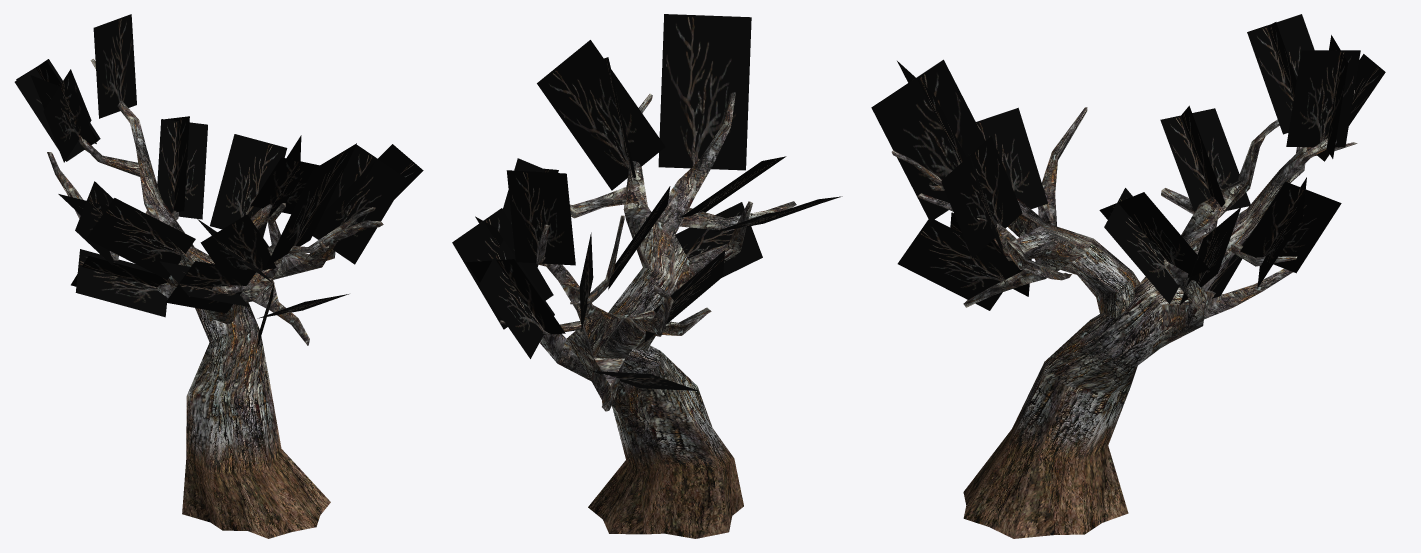
File: hr_tree03.glb
The picture shows the model from 3 angles, left to right: view 1: azimuth 30°, elevation 25°; view 2: azimuth 150°, elevation 25°; view 3: azimuth 270°, elevation 25°; orthographic projection. The views are drawn at different scales.
Parts seen in each view (by area): view 1: hr_tree03-col; view 2: hr_tree03-col; view 3: hr_tree03-col.
Boxes of the visible parts, box(x1,y1,x2,y2) form: hr_tree03-col: box(14, 14, 423, 538); hr_tree03-col: box(452, 14, 842, 538); hr_tree03-col: box(871, 14, 1385, 538).
Bounding box in the file's own units: 10.64 × 14.13 × 15.08.
4 materials, 4 textured.
